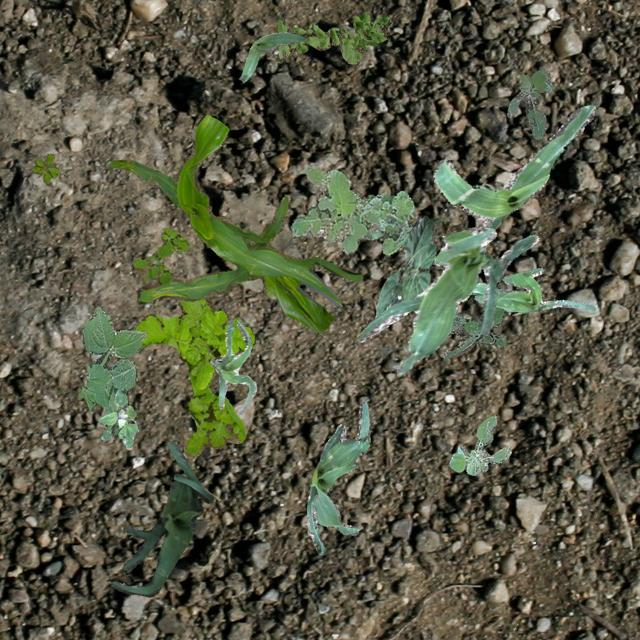crop: (108, 114, 362, 332), (353, 227, 538, 376), (432, 105, 594, 252), (111, 440, 212, 596), (306, 401, 368, 554), (374, 215, 434, 316), (470, 266, 594, 312), (208, 317, 256, 413), (238, 30, 306, 81), (362, 230, 382, 238)
weed: (134, 296, 253, 458), (290, 164, 412, 253), (78, 306, 146, 414), (276, 10, 388, 62), (448, 414, 511, 474), (132, 226, 188, 284), (442, 306, 504, 358), (506, 68, 552, 138), (98, 388, 136, 447), (31, 152, 58, 182)
